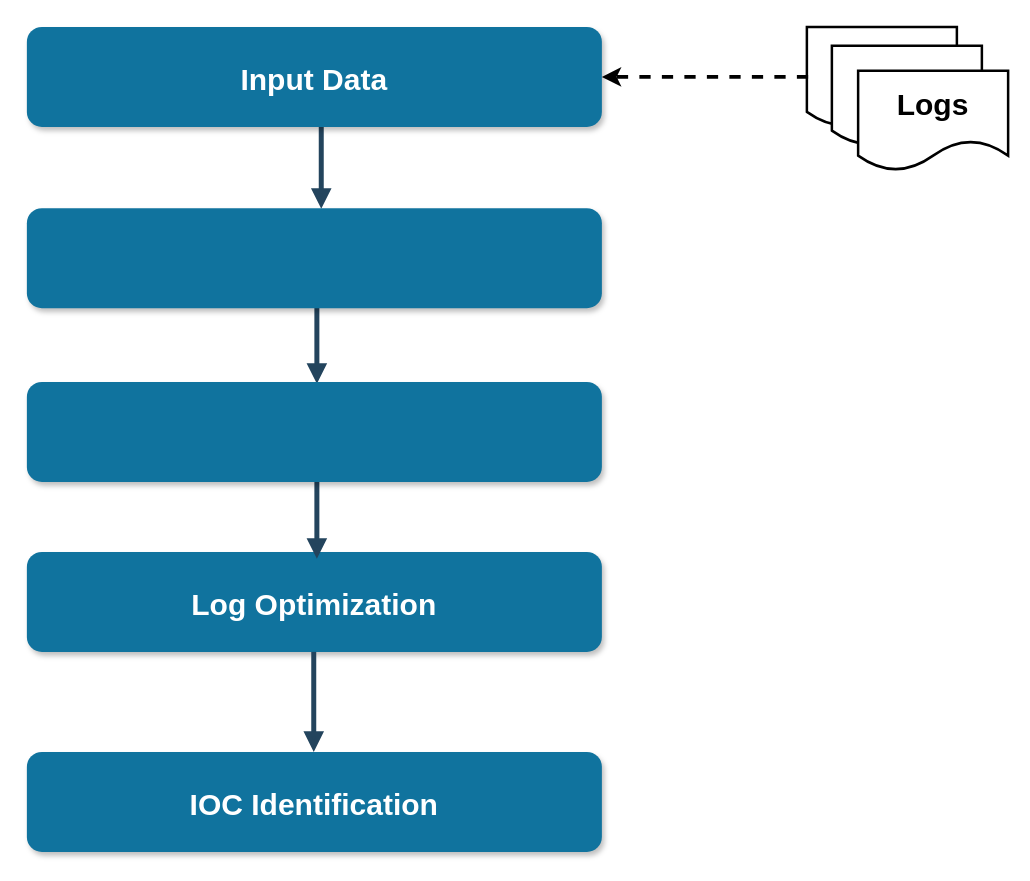
This 1030x881 diagram has some shape labels left out. The centre of each missing label's shape, as x and y in pixels:
"Log Sequencing & Indexing" goes at point 315,433.
"Pre - Processing" goes at point 315,259.
